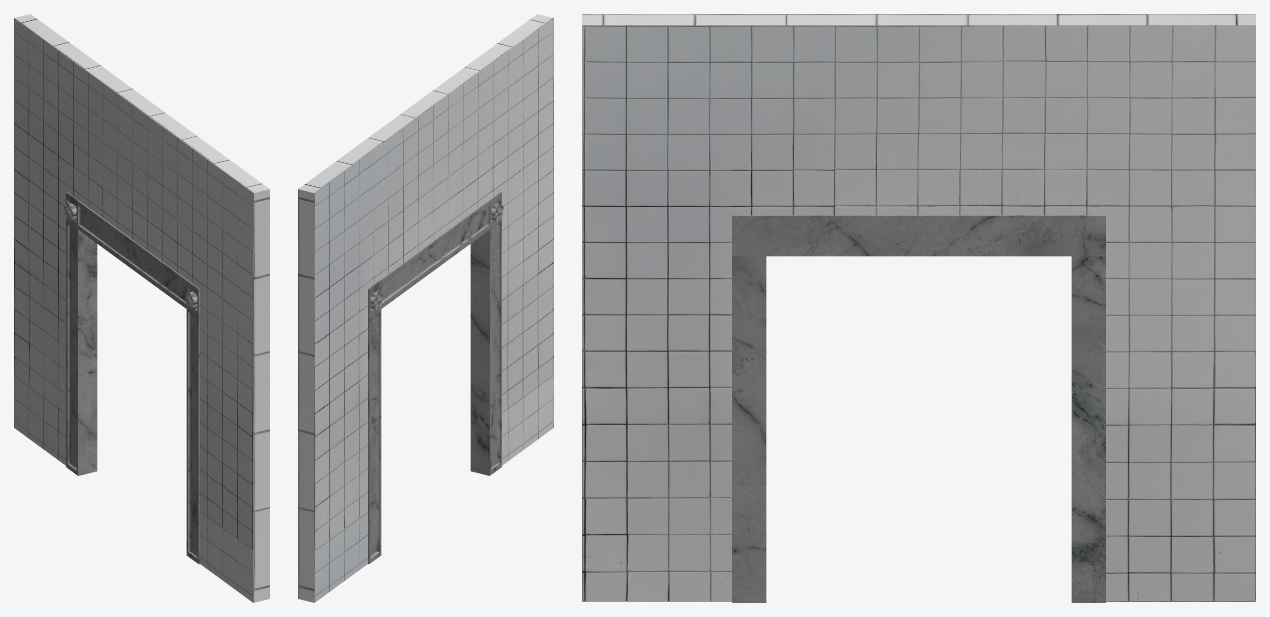
Rendered from SM_Marble01C.fbx.
3 renders of one model, left to right at view 1: azimuth 30°, elevation 25°; view 2: azimuth 150°, elevation 25°; view 3: azimuth 270°, elevation 25°, orthographic. The views are drawn at different scales.
Visible parts, largest first — view 1: SM_Marble01C; view 2: SM_Marble01C; view 3: SM_Marble01C.
Part boxes in pixels (<box>): SM_Marble01C: <box>14,14,269,602</box>; SM_Marble01C: <box>298,14,553,602</box>; SM_Marble01C: <box>582,14,1255,602</box>.
Size of the model in its own units: 13.98 by 245 by 231.
